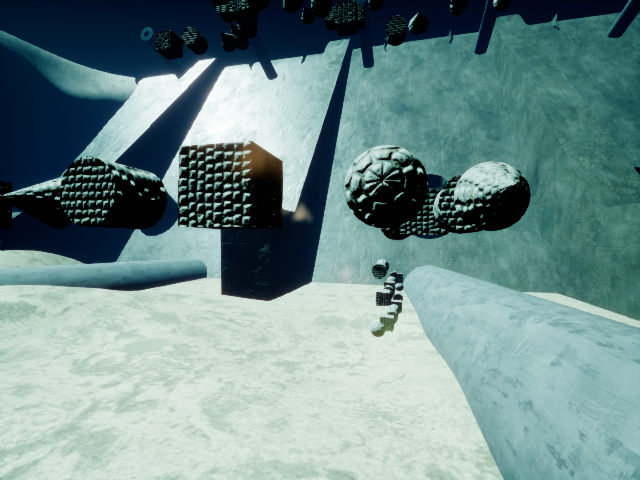Cone: (451, 156, 537, 238)
Cube: (170, 143, 288, 240)
Cylinder: (56, 153, 168, 240), (368, 256, 389, 279), (56, 192, 59, 197)
Sphere: (340, 140, 435, 229)
